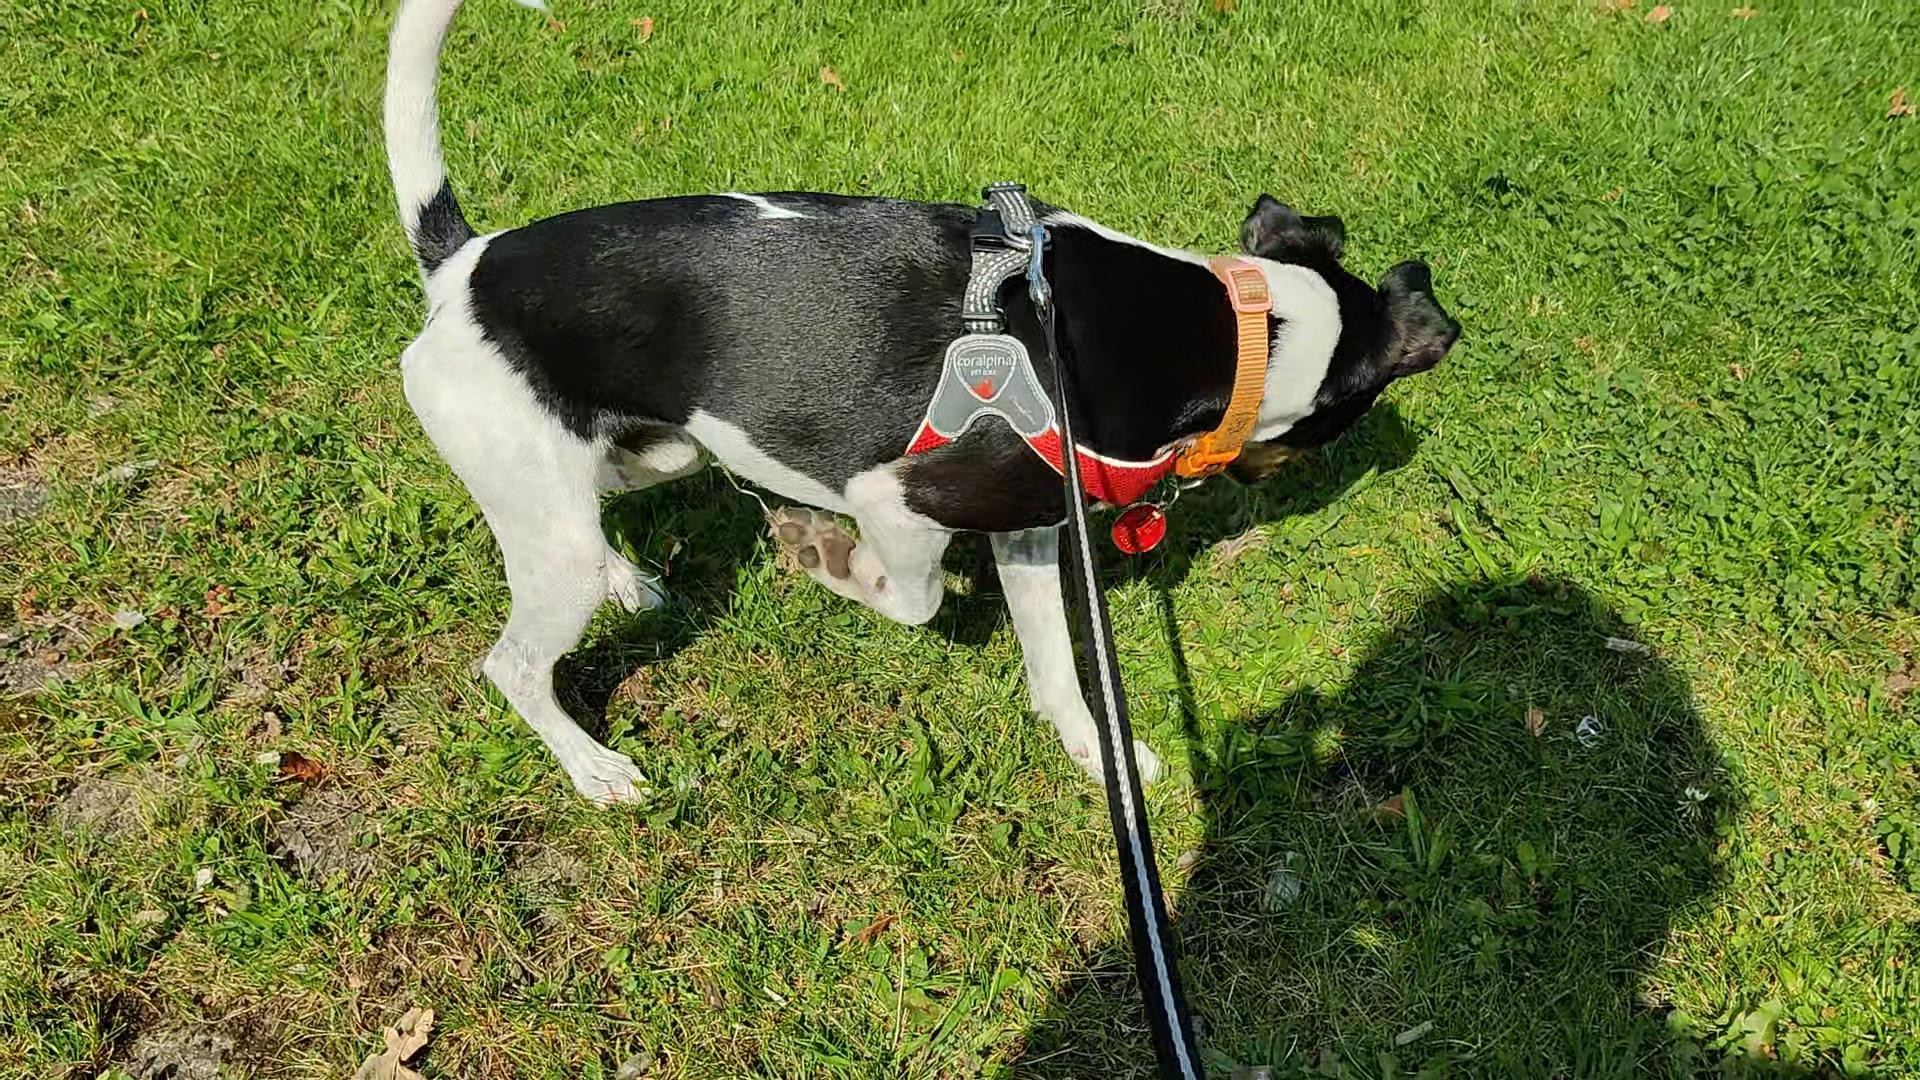Dog: (369, 0, 1468, 811)
